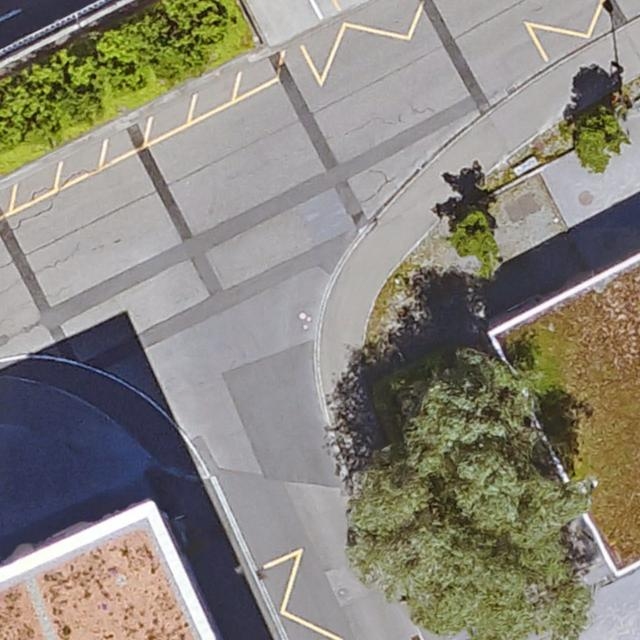tree: (349, 361, 580, 636), (573, 109, 626, 172), (449, 210, 499, 263)
